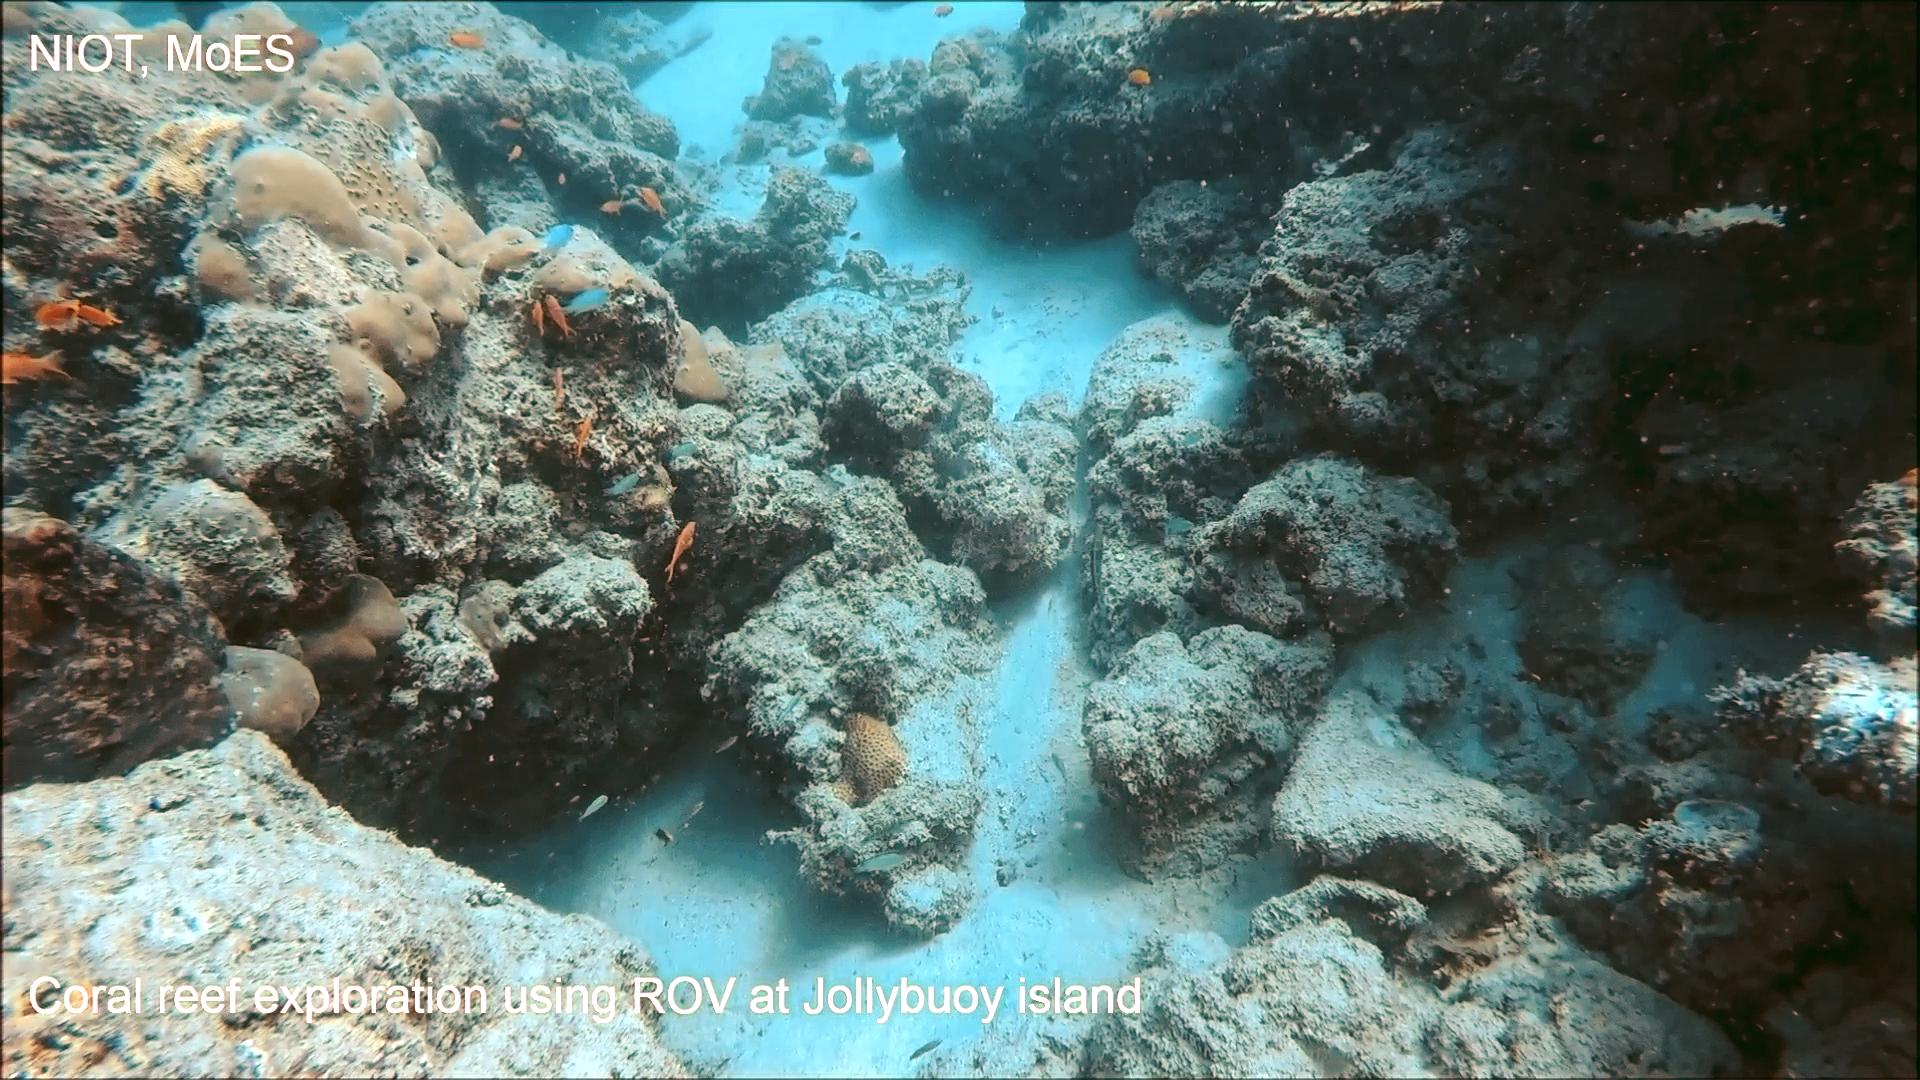Porites-Porites pukoensis: (111, 0, 547, 444)
